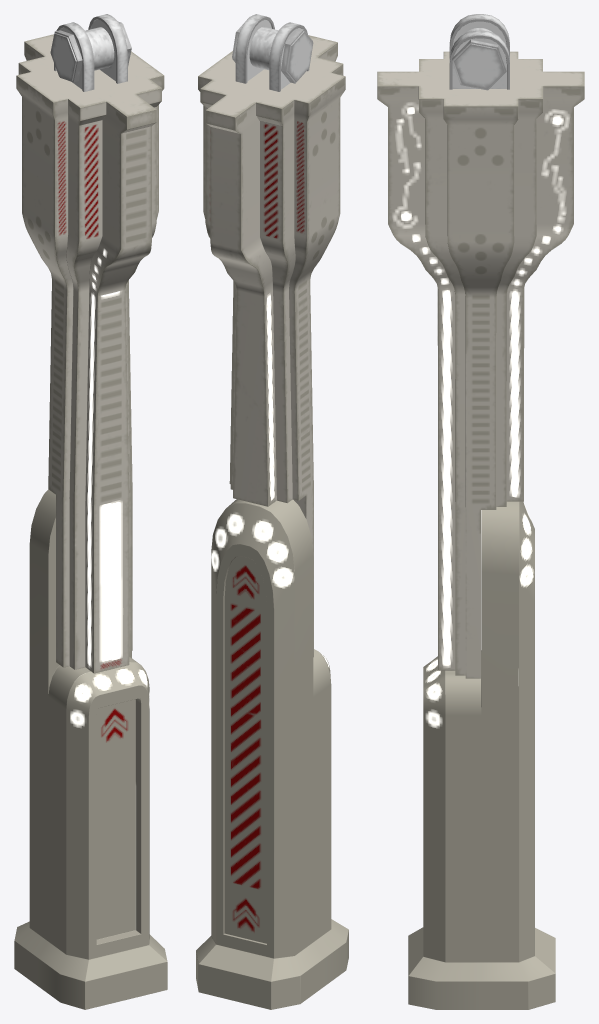
Rendered from SM_PillarBase.fbx.
3 renders of one model, left to right at view 1: azimuth 30°, elevation 25°; view 2: azimuth 150°, elevation 25°; view 3: azimuth 270°, elevation 25°, orthographic.
Parts seen in each view (by area): view 1: SM_PillarBase_LOD0; view 2: SM_PillarBase_LOD0; view 3: SM_PillarBase_LOD0.
Boxes of the visible parts, x1,y1,x2,y2 form: SM_PillarBase_LOD0: (14, 14, 167, 1009); SM_PillarBase_LOD0: (196, 14, 348, 1009); SM_PillarBase_LOD0: (377, 14, 584, 1009).
Size of the model in its own units: 40.72 by 334 by 65.27.
1 material, 1 textured.
